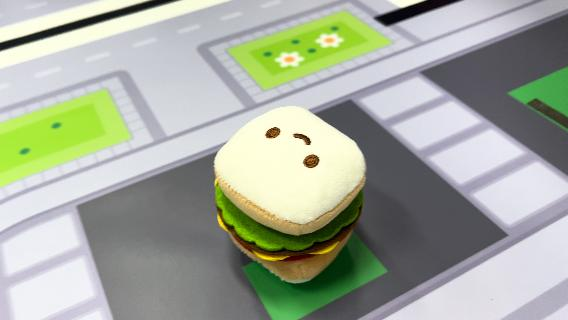sandwich: (211, 104, 369, 284)
